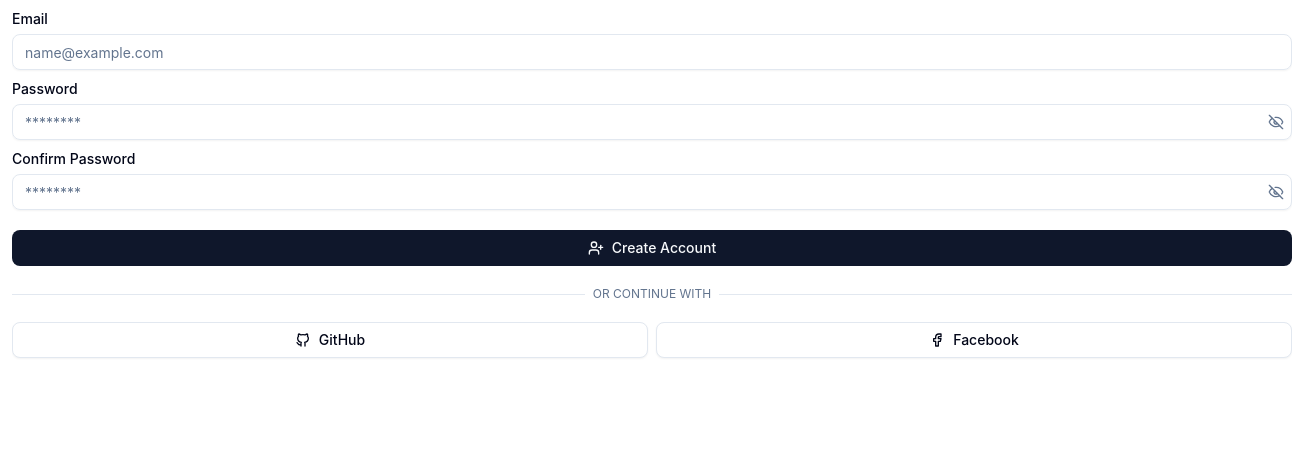
Test case: SignUpForm › shows validation messages when submitting empty form
Click the button "Create Account": (652, 248) [12,230,1292,266]
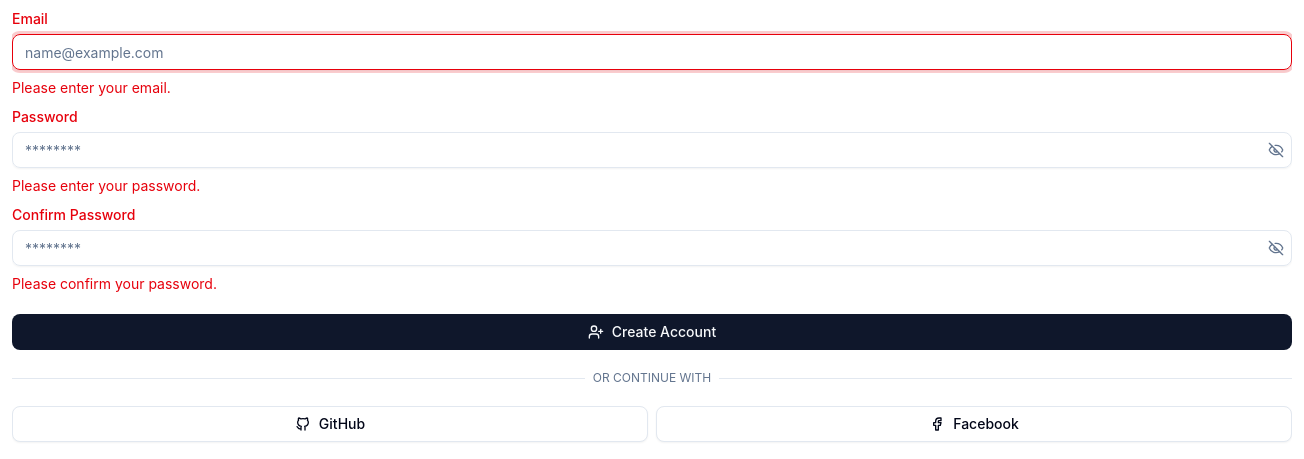
Expected: the text "Please enter your email." is shown, [12,79,171,96]
